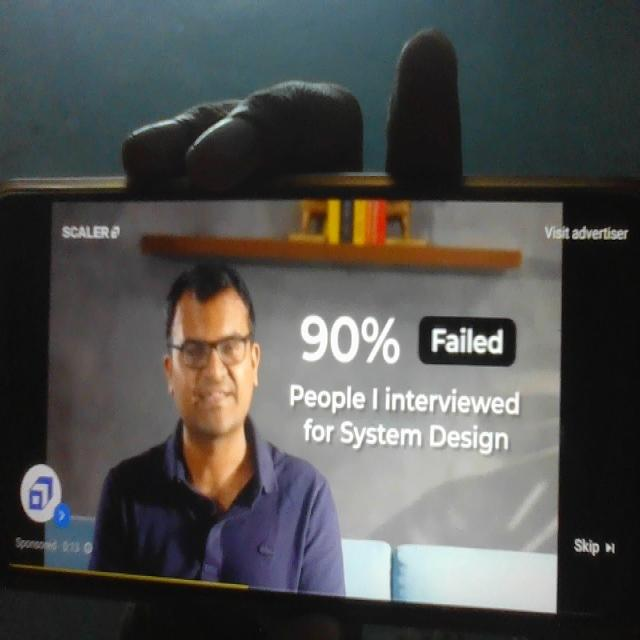fake: (157, 241, 268, 452)
